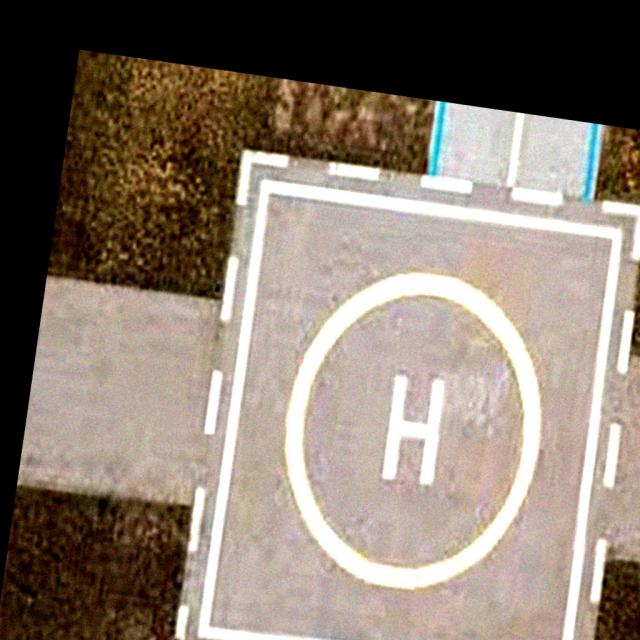helipad: (278, 264, 544, 595)
